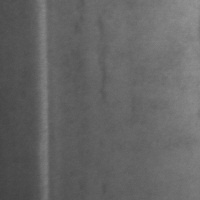inclusion: (92, 18, 115, 106)
scratches: (36, 1, 52, 199)
